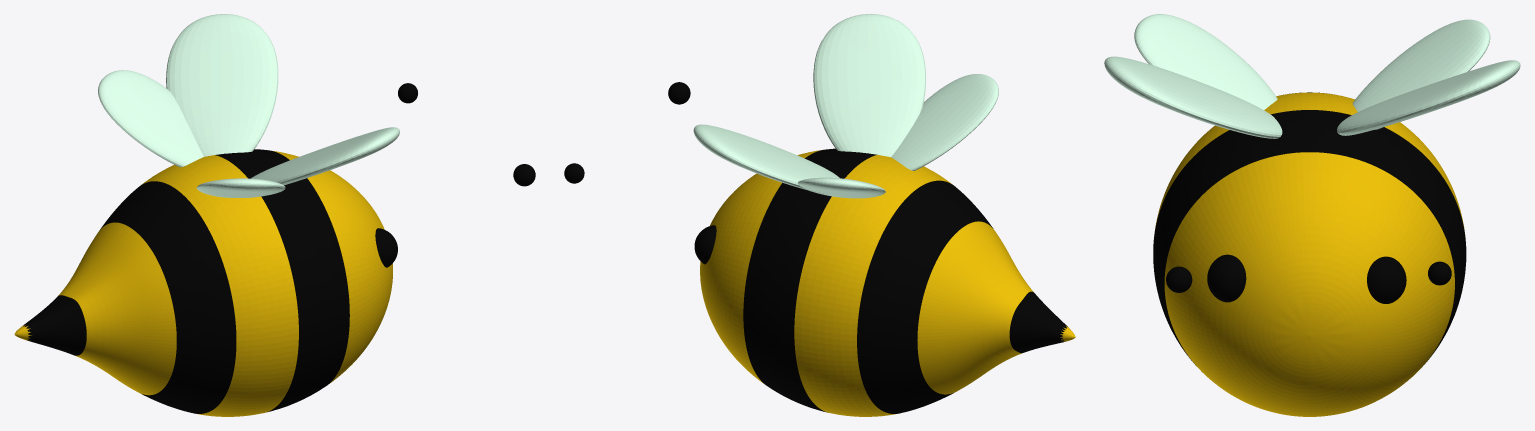
Rendered from Abeja2.fbx.
3 views of the same model, side by side, from view 1: azimuth 30°, elevation 25°; view 2: azimuth 150°, elevation 25°; view 3: azimuth 270°, elevation 25° (orthographic). The views are drawn at different scales.
Visible parts, largest first — view 1: Sphere, Plane.001, Plane.003, Plane, Plane.002, Sphere.002; view 2: Sphere, Plane, Plane.002, Plane.001, Plane.003, Sphere.001; view 3: Sphere, Plane.002, Plane, Plane.003, Plane.001, Sphere.001, Sphere.002, Sphere.004, Sphere.003.
Boxes of the visible parts, bbox=[...] form: Sphere: bbox=[14, 149, 392, 416]; Plane.001: bbox=[166, 14, 278, 156]; Plane.003: bbox=[98, 70, 203, 167]; Plane: bbox=[251, 127, 399, 185]; Plane.002: bbox=[196, 178, 285, 197]; Sphere.002: bbox=[375, 228, 397, 267]; Sphere: bbox=[700, 148, 1075, 416]; Plane: bbox=[813, 14, 925, 157]; Plane.002: bbox=[891, 74, 998, 170]; Plane.001: bbox=[693, 124, 839, 195]; Plane.003: bbox=[797, 177, 885, 198]; Sphere.001: bbox=[694, 225, 716, 264]; Sphere: bbox=[1153, 92, 1466, 416]; Plane.002: bbox=[1134, 14, 1277, 109]; Plane: bbox=[1104, 56, 1282, 138]; Plane.003: bbox=[1352, 19, 1490, 129]; Plane.001: bbox=[1337, 60, 1520, 135]; Sphere.001: bbox=[1367, 256, 1406, 303]; Sphere.002: bbox=[1207, 254, 1246, 302]; Sphere.004: bbox=[1166, 266, 1192, 292]; Sphere.003: bbox=[1428, 261, 1451, 285].
Size of the model in its own units: 380 by 245 by 251.
